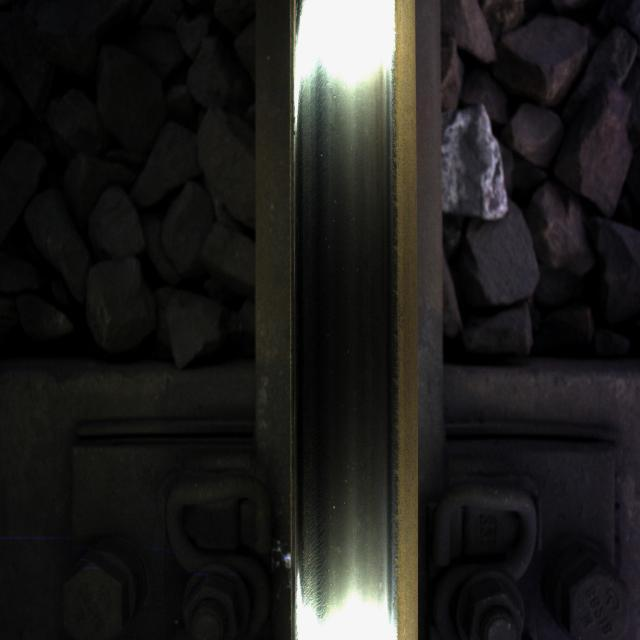break: (301, 49, 380, 596)
